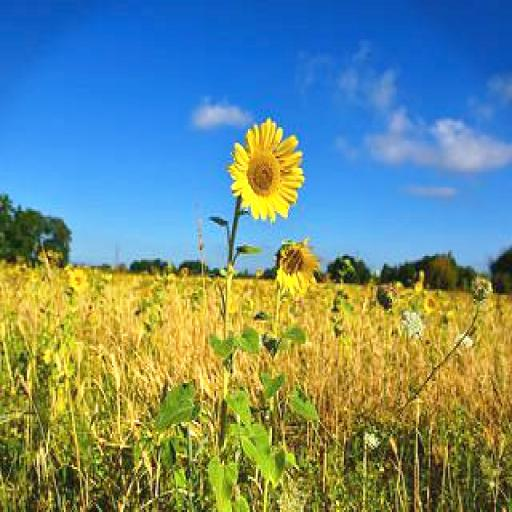sunflower: (229, 119, 302, 219), (275, 240, 320, 299)
